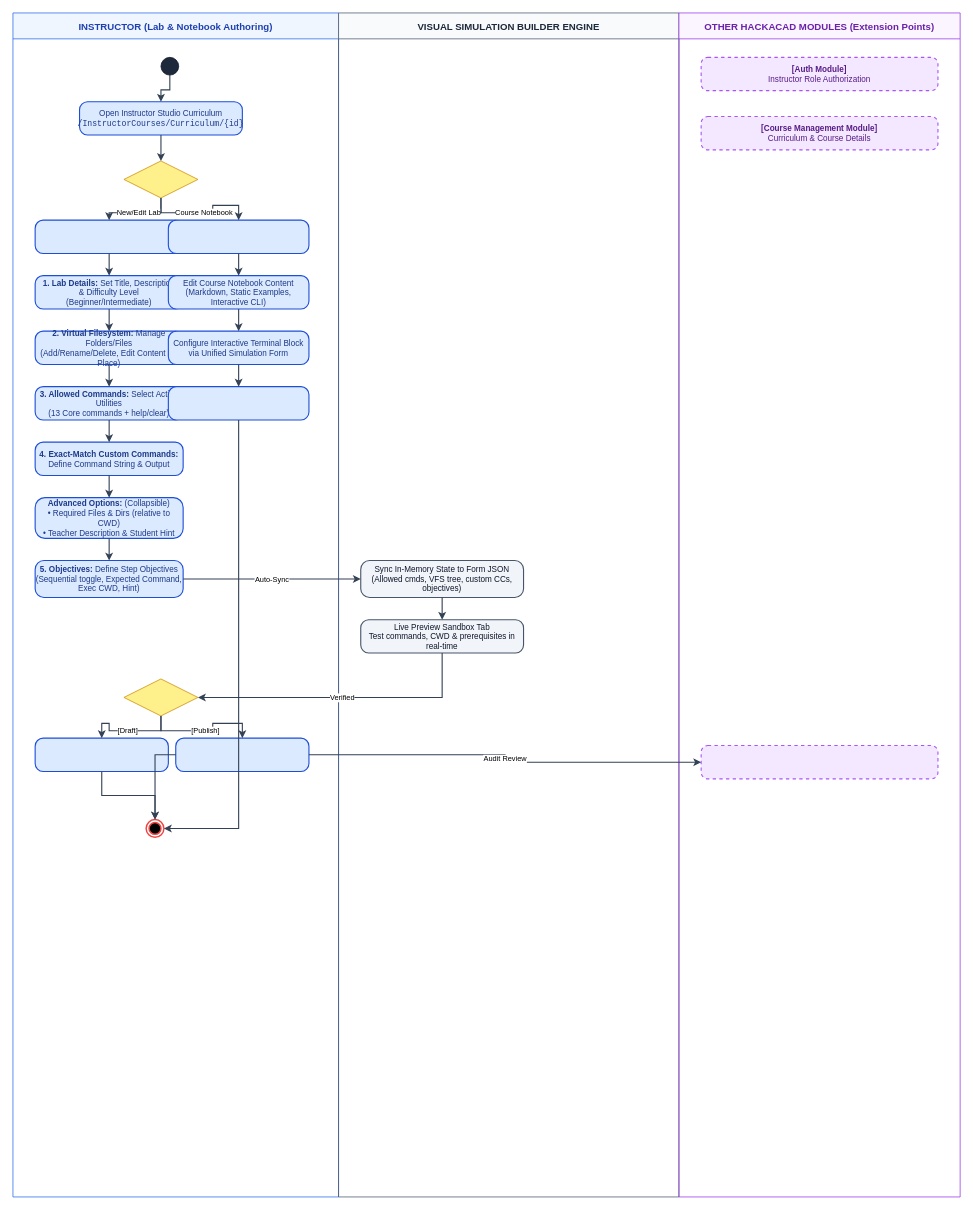
Image size: 973x1210. Some labels were removed from this diagram. Each missing label, with the centre of its shape:
"[Admin Moderation Module] Curriculum Verification & Audit" goes at [819,762].
"Authoring Action?" goes at [160,179].
"Copy Personal Notebook to Course (Creates independent course copy)" goes at [238,236].
"Open Simulation Form /InstructorCourses/AddSimulation" goes at [108,236].
"Publish to Course Curriculum (Available to Enrolled Learners)" goes at [242,754].
"Publish to Course?" goes at [160,697].
"Save as Draft Simulation (Private, for future refinement)" goes at [101,754].
"Toggle Course Notebook Publication in Course Curriculum" goes at [238,403].
